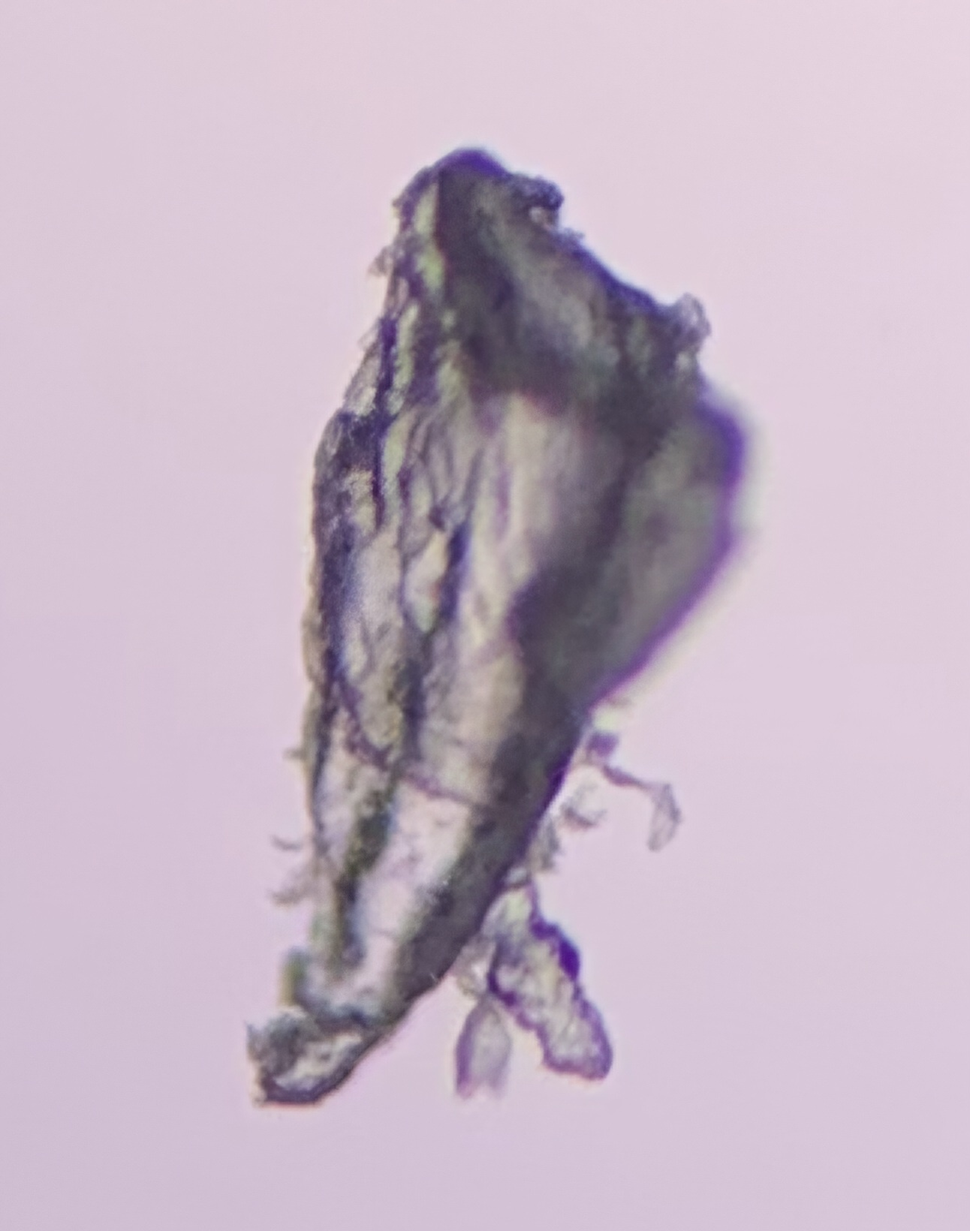microplastic: (245, 139, 755, 1116)
